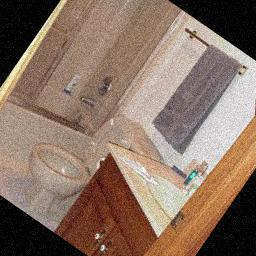Ducha: (3, 0, 179, 150)
Lavamanos: (102, 143, 200, 237)
Sanitario: (5, 89, 166, 252)
